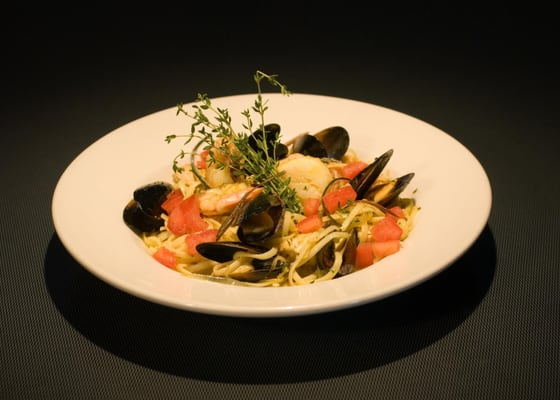curry: (1, 12, 556, 395)
pizza: (371, 215, 404, 243), (296, 211, 323, 233)
